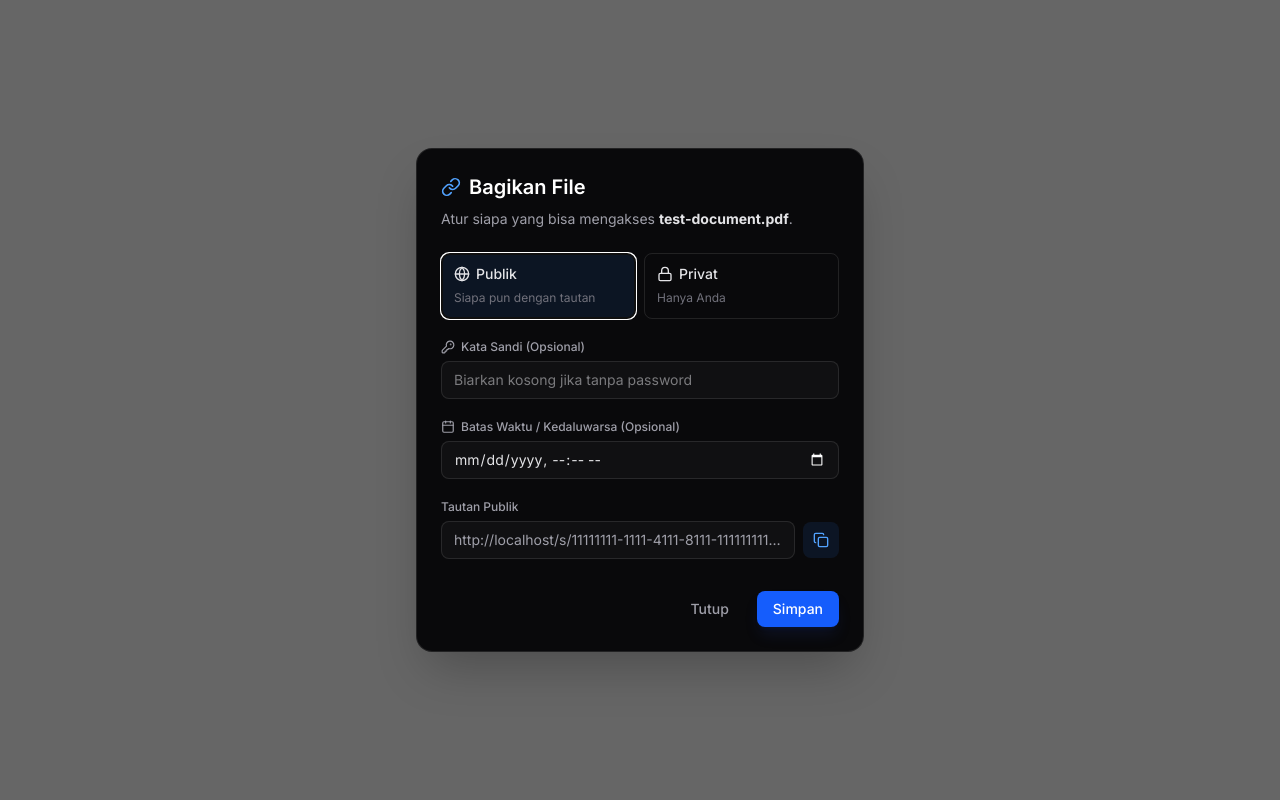
Test: ShareDialog › menjadikan file privat dan menampilkan error dari backend
What coordinates should you click on to do the following:
click the radio button labelled "Privat Hanya Anda"
I would click on:
 (742, 286)
Its box is [644,253,839,319].
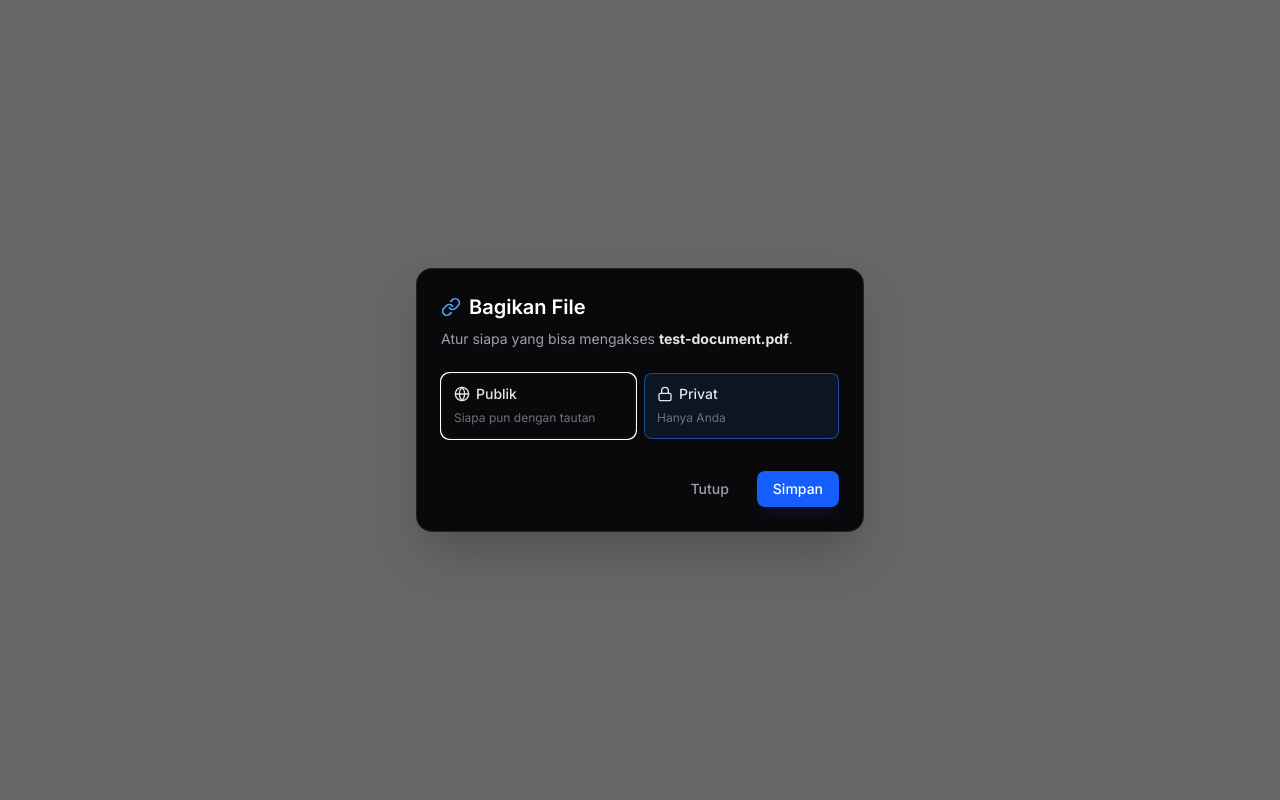
What coordinates should you click on to do the following:
click the button "Simpan"
I would click on:
 (798, 489)
Its box is [757,471,839,507].
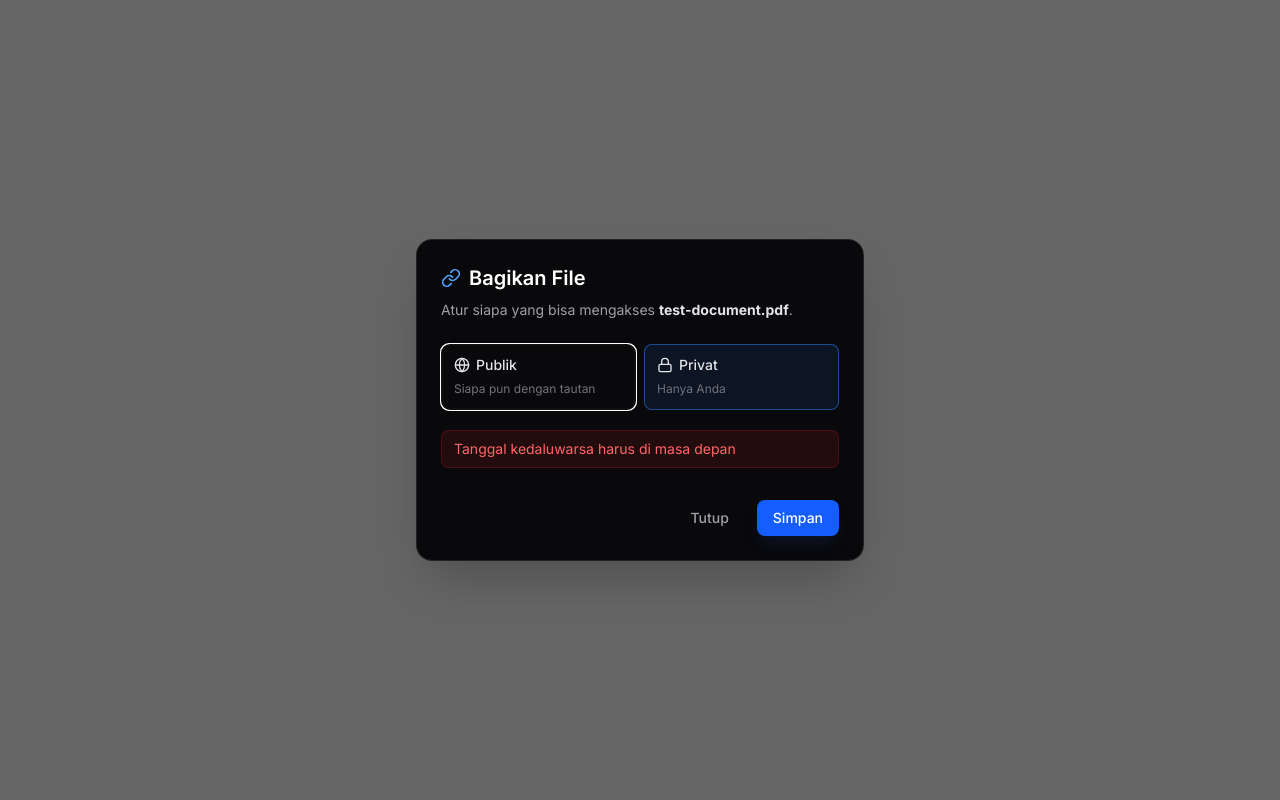
Result: the text "Tanggal kedaluwarsa harus di masa depan" is shown at [441,430,839,468]
